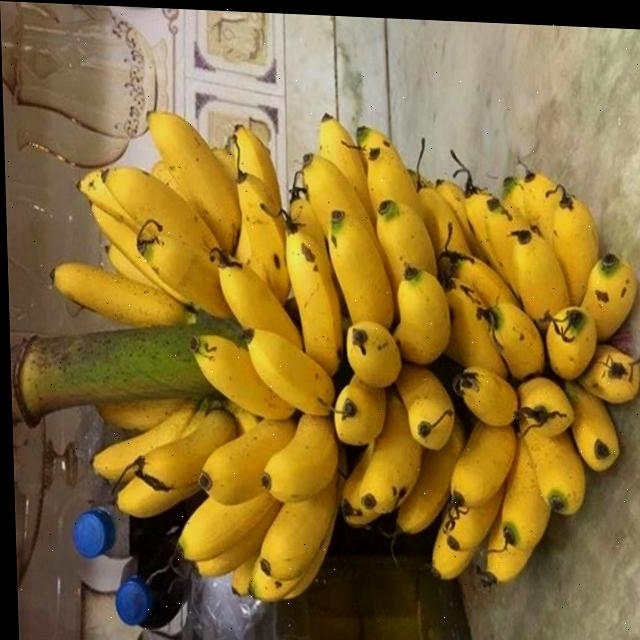banana: (28, 125, 640, 617), (70, 49, 341, 595), (401, 160, 640, 582), (307, 103, 488, 563)
